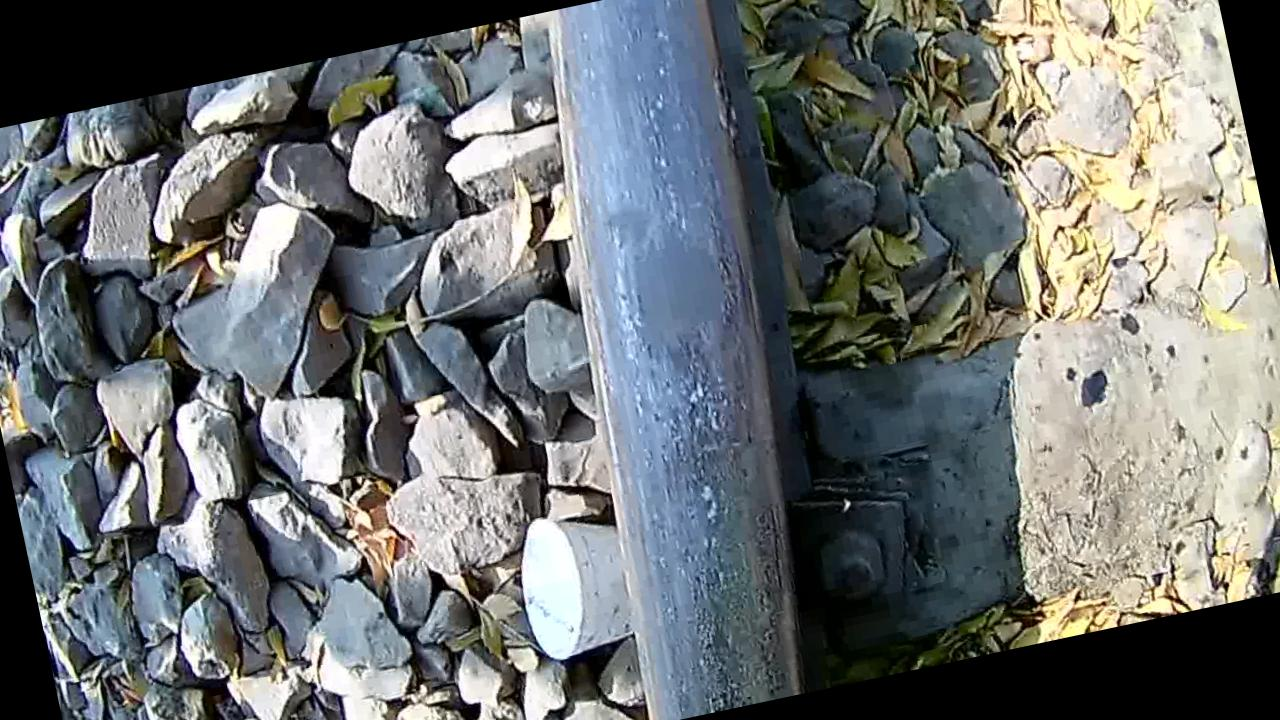bolt_missing: (566, 112, 834, 609)
